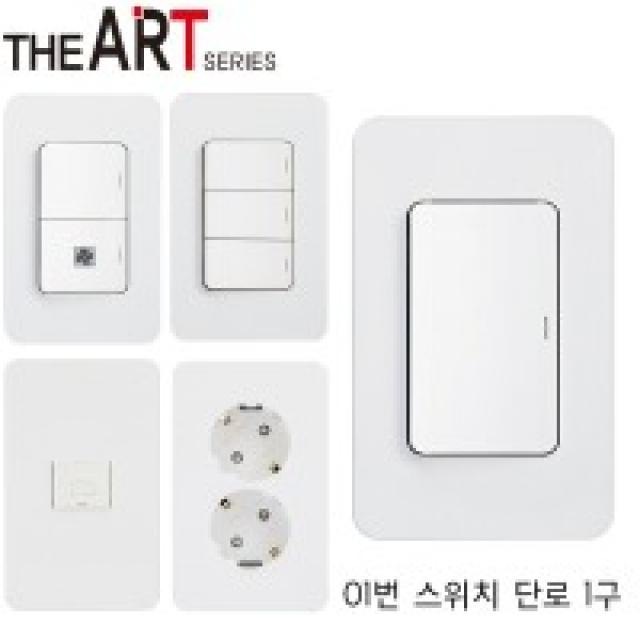typeb: (166, 353, 337, 624)
